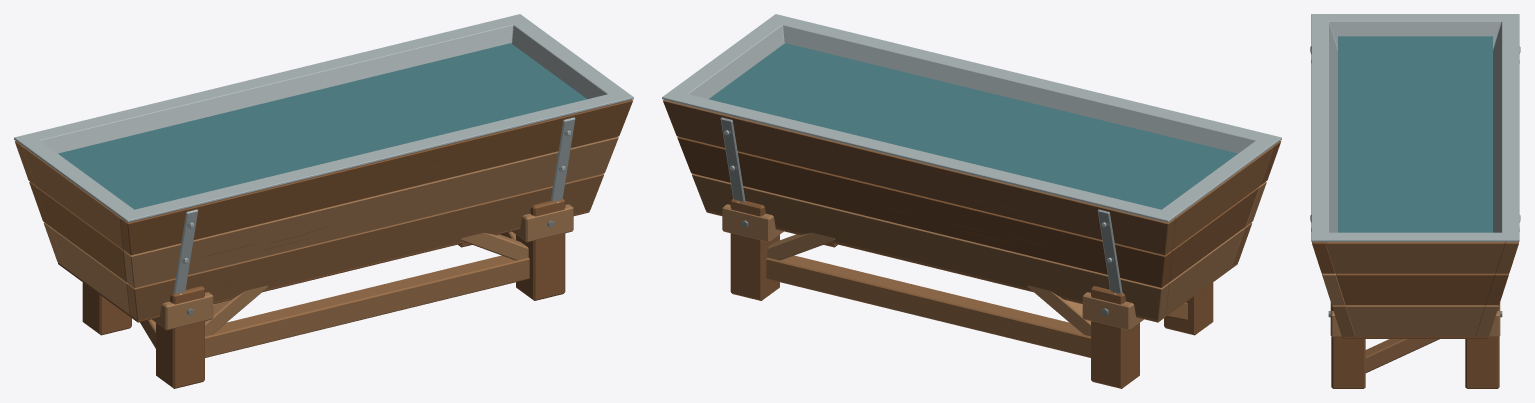
3 renders of one model, left to right at view 1: azimuth 30°, elevation 25°; view 2: azimuth 150°, elevation 25°; view 3: azimuth 270°, elevation 25°, orthographic. The views are drawn at different scales.
Visible parts, largest first — view 1: Water level - full to empty, Folded galvanized hollow liner and rolled lip, Long timber plank.004, Long timber plank.002, Long timber plank, Long lower stretcher, Square timber leg, Square timber leg.002, End timber plank.004, End timber plank.002, End timber plank, Square timber leg.001 (+7 smaller); view 2: Water level - full to empty, Folded galvanized hollow liner and rolled lip, Long timber plank.005, Long timber plank.003, Long timber plank.001, Long lower stretcher.001, Square timber leg.001, Square timber leg.003, End timber plank.004, End timber plank.002, End timber plank, Under-basin saddle (+7 smaller); view 3: Water level - full to empty, Folded galvanized hollow liner and rolled lip, End timber plank.005, End timber plank.003, End timber plank.001, Square timber leg.002, Square timber leg.003, End diagonal brace.001, Long timber plank.002, Long timber plank.003, Long timber plank, Long timber plank.001 (+4 smaller).
Boxes of the visible parts, x1,y1,x2,y2 form: Water level - full to empty: (58, 43, 586, 209); Folded galvanized hollow liner and rolled lip: (14, 14, 633, 222); Long timber plank.004: (120, 100, 632, 255); Long timber plank.002: (123, 137, 618, 287); Long timber plank: (127, 174, 603, 320); Long lower stretcher: (205, 255, 529, 357); Square timber leg: (156, 286, 204, 388); Square timber leg.002: (516, 199, 565, 300); End timber plank.004: (22, 146, 123, 249); End timber plank.002: (37, 187, 126, 282); End timber plank: (51, 228, 129, 314); Square timber leg.001: (82, 282, 131, 335); Water level - full to empty: (709, 43, 1237, 209); Folded galvanized hollow liner and rolled lip: (662, 14, 1281, 222); Long timber plank.005: (663, 100, 1175, 255); Long timber plank.003: (677, 137, 1172, 287); Long timber plank.001: (692, 174, 1168, 320); Long lower stretcher.001: (766, 255, 1090, 357); Square timber leg.001: (1091, 286, 1139, 388); Square timber leg.003: (730, 199, 779, 300); End timber plank.004: (1172, 146, 1273, 249); End timber plank.002: (1169, 187, 1258, 282); End timber plank: (1166, 228, 1244, 314); Under-basin saddle: (1082, 292, 1143, 330); Water level - full to empty: (1338, 36, 1492, 232); Folded galvanized hollow liner and rolled lip: (1311, 14, 1519, 241); End timber plank.005: (1326, 242, 1504, 273); End timber plank.003: (1336, 273, 1494, 305); End timber plank.001: (1346, 305, 1484, 336); Square timber leg.002: (1331, 304, 1365, 388); Square timber leg.003: (1465, 304, 1499, 388); End diagonal brace.001: (1365, 339, 1439, 372); Long timber plank.002: (1322, 273, 1345, 305); Long timber plank.003: (1485, 273, 1508, 305); Long timber plank: (1332, 305, 1355, 336); Long timber plank.001: (1475, 305, 1498, 336).
Size of the model in its own units: 1.8 by 0.65 by 0.7067.
